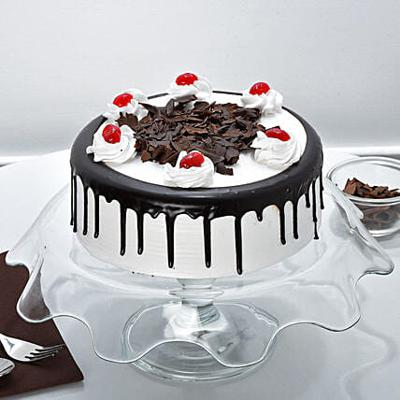cake: (67, 71, 327, 276)
